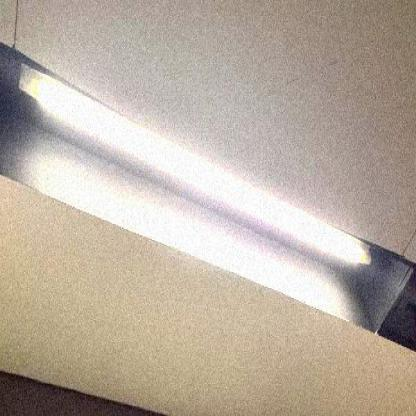light_on: (13, 50, 374, 292)
